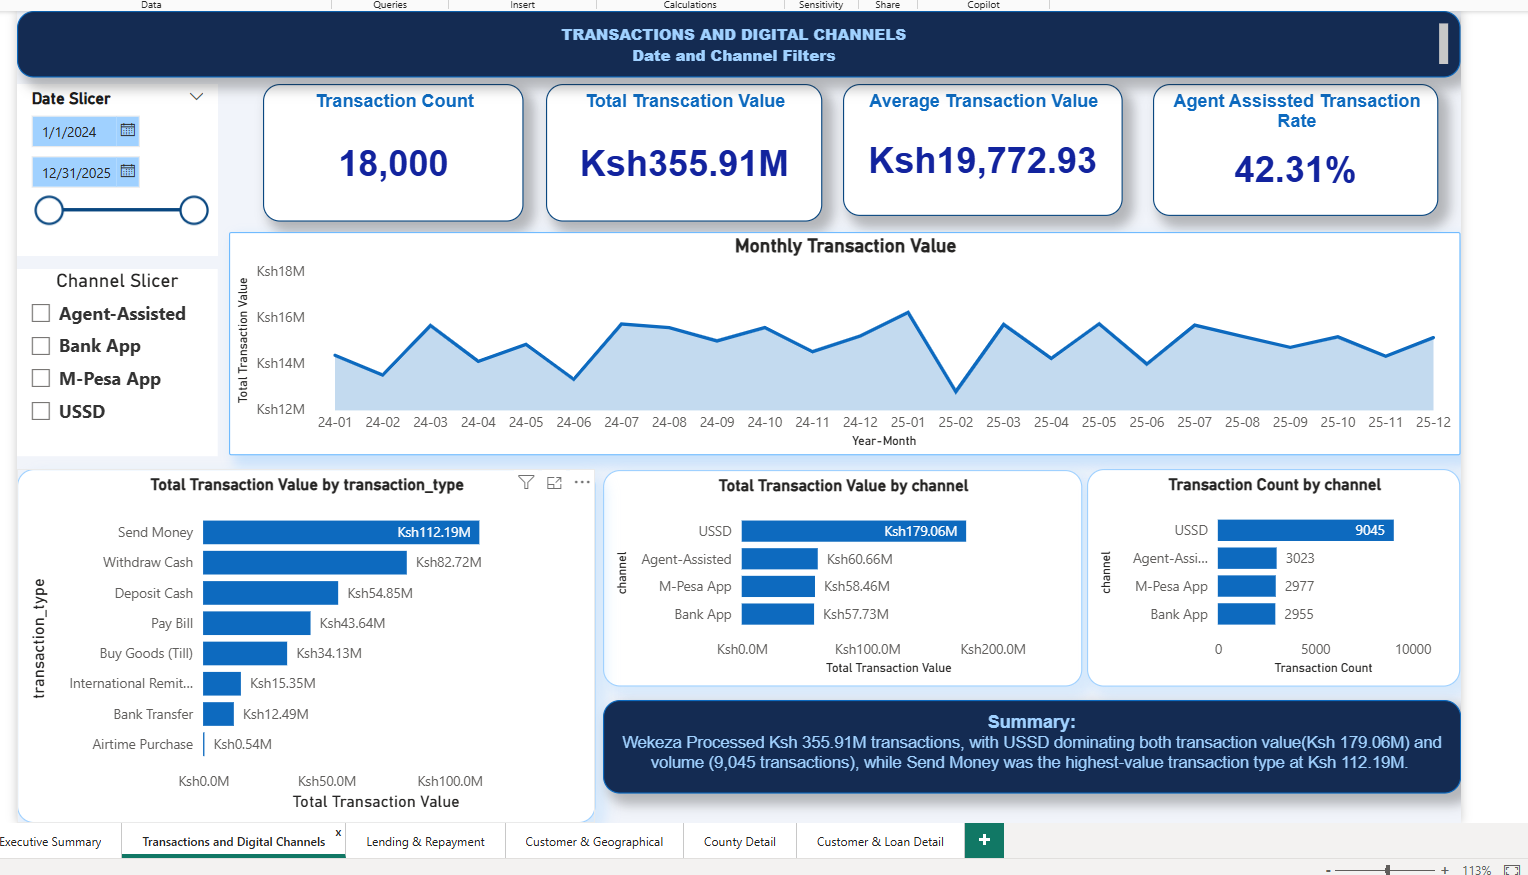

The page's visual inventory and layout, read from the dashboard file:
{"tool":"powerbi","page":{"name":"Transactions and Digital Channels","canvas":[1280,720],"ordinal":1},"visuals":[{"type":"card","title":"Transaction Count","fields":{"Values":["Wekeza_Measures.Transaction Count"]},"box":[218.4,65.1,231.2,122],"z":0},{"type":"card","title":"Total Transcation Value","fields":{"Values":["Wekeza_Measures.Total Transaction Value"]},"box":[468.9,65.1,245,122],"z":1000},{"type":"card","title":"Average Transaction Value","fields":{"Values":["Wekeza_Measures.Average Transaction Value"]},"box":[732.2,65.1,247.7,116.5],"z":2000},{"type":"card","title":"Agent Assissted Transaction Rate","fields":{"Values":["Wekeza_Measures.Agent Assisted Transaction Rate"]},"box":[1007.5,65.1,253.2,116.5],"z":3000},{"type":"areaChart","title":"Monthly Transaction Value","fields":{"Category":["Wekeza_Date_Dim.Year-Month"],"Y":["Wekeza_Measures.Total Transaction Value"]},"box":[188.1,196.4,1091.9,198.2],"z":4000},{"type":"clusteredBarChart","fields":{"Y":["Wekeza_Measures.Total Transaction Value"],"Category":["transactions.channel"]},"box":[519.3,407.4,424.8,191.8],"z":5000},{"type":"clusteredBarChart","fields":{"Category":["transactions.channel"],"Y":["Wekeza_Measures.Transaction Count"]},"box":[948.8,406.5,331.2,192.7],"z":6000},{"type":"clusteredBarChart","fields":{"Y":["Wekeza_Measures.Total Transaction Value"],"Category":["transactions.transaction_type"]},"box":[0,406.5,512.9,313.8],"z":7000},{"type":"slicer","fields":{"Values":["Wekeza_Date_Dim.Date"]},"box":[0,65.1,178,152.3],"z":8000},{"type":"slicer","title":"Channel Slicer","fields":{"Values":["transactions.channel"]},"box":[0,228.5,178,166.1],"z":9000},{"type":"textbox","box":[0,0,1280,58.7],"z":10000},{"type":"textbox","box":[519.3,611.1,760.7,82.6],"z":11000}]}

Visuals, with their boxes on the page's 1280x720 design canvas (x1, y1, x2, y2). These are canvas units, not pixel positions in the 1528x875 screenshot, which may show the page scaled, cropped or inside an application window:
"Transaction Count" card: BBox(218, 65, 450, 187)
"Total Transcation Value" card: BBox(469, 65, 714, 187)
"Average Transaction Value" card: BBox(732, 65, 980, 182)
"Agent Assissted Transaction Rate" card: BBox(1008, 65, 1261, 182)
"Monthly Transaction Value" areaChart: BBox(188, 196, 1280, 395)
clusteredBarChart - Wekeza_Measures.Total Transaction Value x transactions.channel: BBox(519, 407, 944, 599)
clusteredBarChart - transactions.channel x Wekeza_Measures.Transaction Count: BBox(949, 406, 1280, 599)
clusteredBarChart - Wekeza_Measures.Total Transaction Value x transactions.transaction_type: BBox(0, 406, 513, 720)
slicer - Wekeza_Date_Dim.Date: BBox(0, 65, 178, 217)
"Channel Slicer" slicer: BBox(0, 228, 178, 395)
textbox: BBox(0, 0, 1280, 59)
textbox: BBox(519, 611, 1280, 694)
